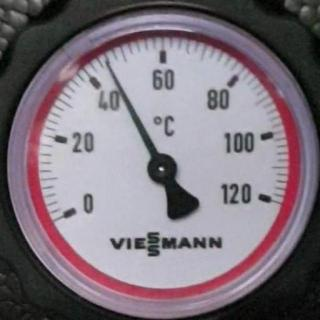gauge: (0, 0, 320, 320), (52, 190, 94, 230), (243, 180, 285, 218), (146, 151, 178, 185), (100, 54, 114, 72)
